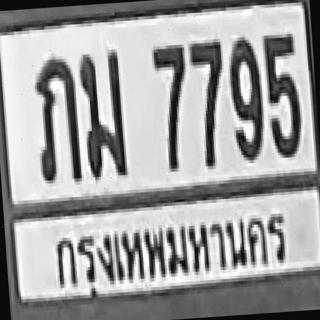A32: (30, 52, 84, 184)
A33: (77, 45, 130, 181)
N05: (262, 30, 305, 159)
N07: (187, 36, 228, 166), (151, 41, 192, 169)
N09: (225, 33, 268, 164)
